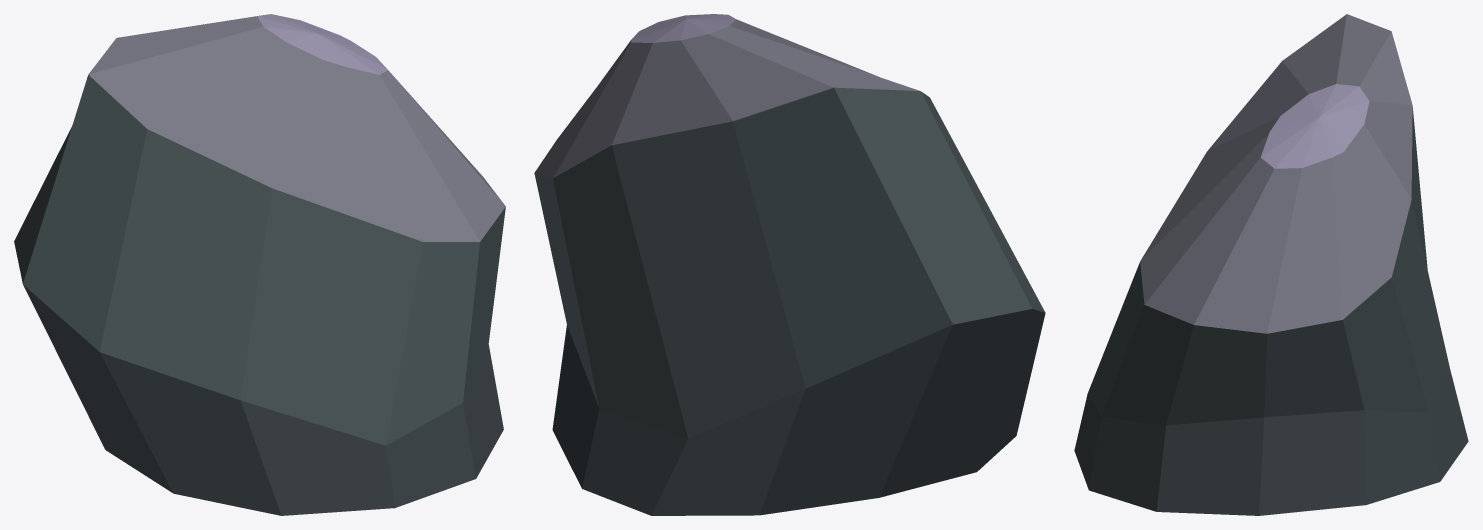
File: Rock_01.fbx
3 views of the same model, side by side, from view 1: azimuth 30°, elevation 25°; view 2: azimuth 150°, elevation 25°; view 3: azimuth 270°, elevation 25° (orthographic). The views are drawn at different scales.
Visible parts, largest first — view 1: Stone 01; view 2: Stone 01; view 3: Stone 01.
Boxes of the visible parts, bbox=[...] form: Stone 01: bbox=[14, 14, 505, 515]; Stone 01: bbox=[534, 14, 1045, 515]; Stone 01: bbox=[1074, 14, 1468, 515].
Size of the model in its own units: 1014 by 851 by 825.
